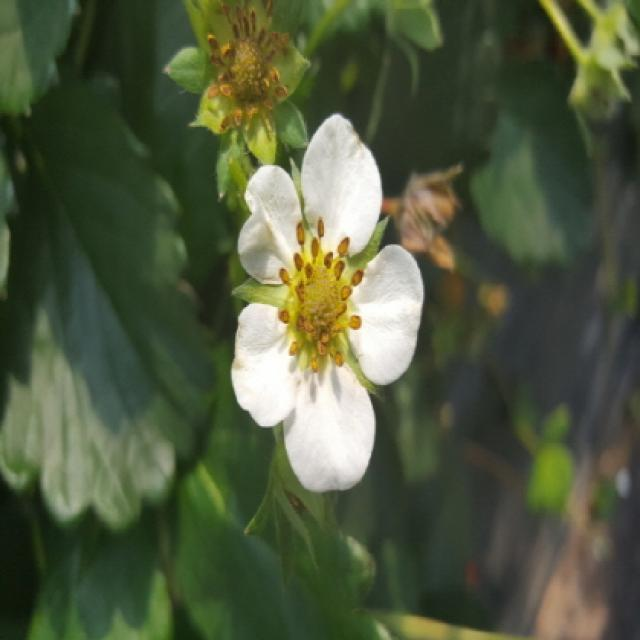Blossom Blight: (272, 214, 373, 378), (200, 0, 294, 144)
